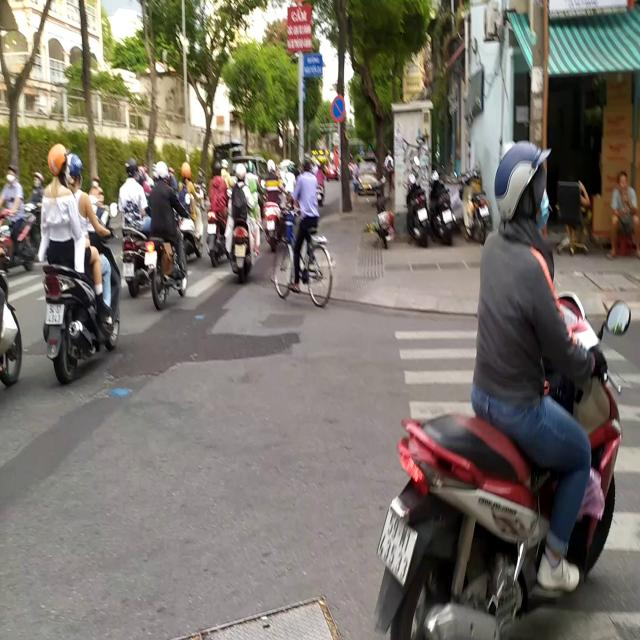bien_trang: (379, 505, 416, 583)
